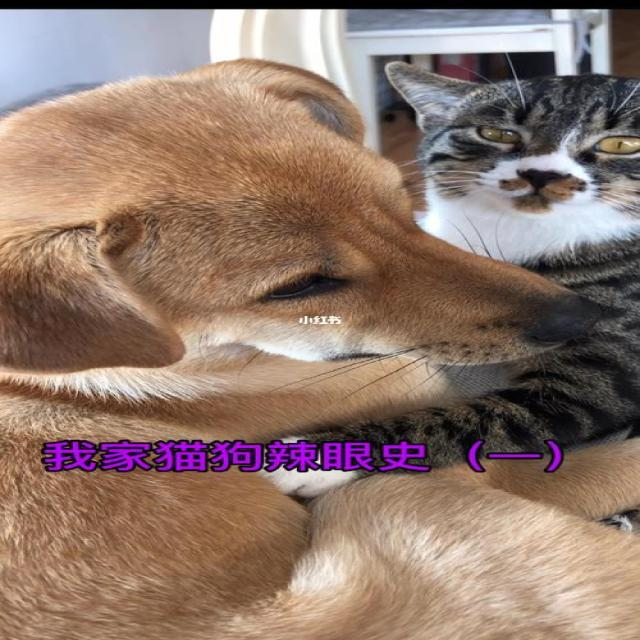cat: (374, 52, 640, 227)
dog: (0, 196, 627, 402)
